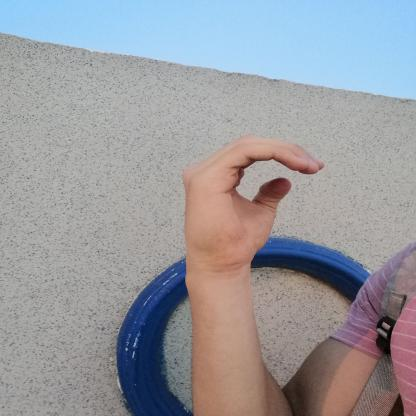JEEM: (168, 125, 335, 279)
